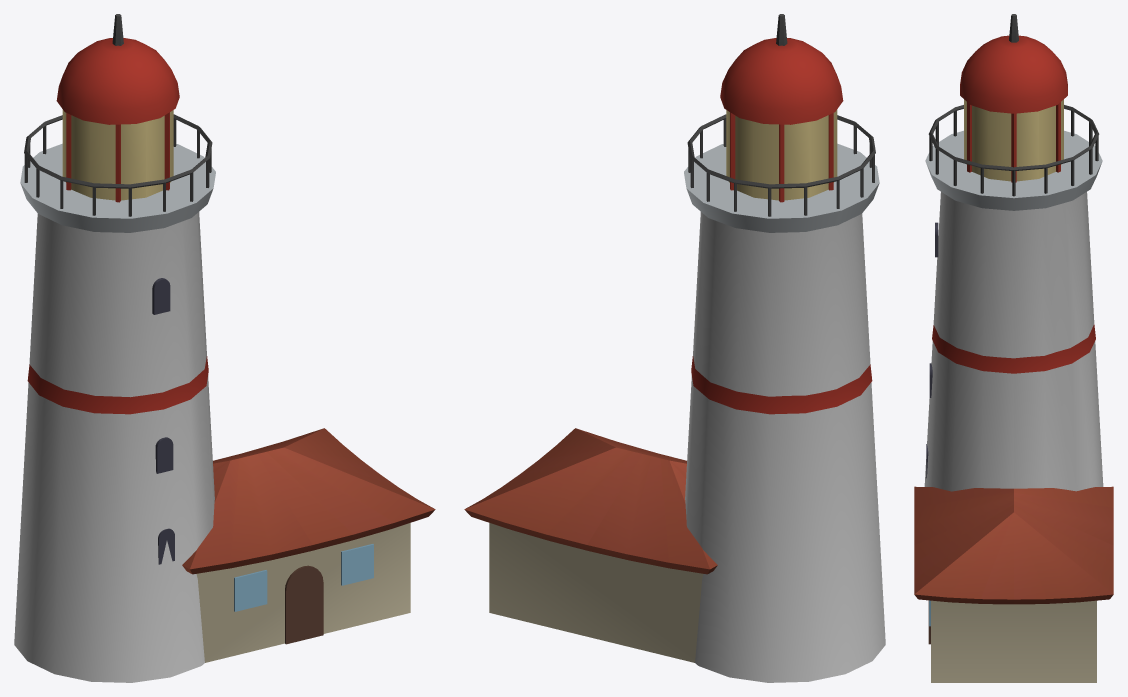
The model's file is lm-lighthouse.glb.
3 renders of one model, left to right at view 1: azimuth 30°, elevation 25°; view 2: azimuth 150°, elevation 25°; view 3: azimuth 270°, elevation 25°, orthographic. The views are drawn at different scales.
Size of the model in its own units: 6.6 by 11.15 by 3.6.
